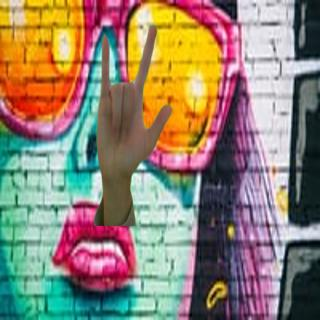ILY: (94, 22, 175, 185)
